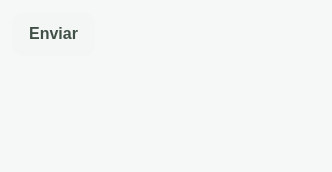
it: formularios y acciones compartidos › Action muestra fallos y vuelve a habilitar el botón
The image size is (332, 172).
What coordinates should you click on to do the following:
click the button "Enviar"
I would click on:
 (53, 34)
Its box is left=12, top=12, right=95, bottom=56.
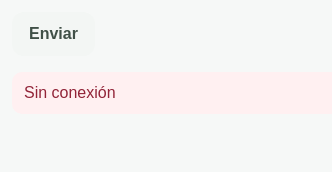
Check: the message reads "Sin conexión", box left=24, top=84, right=116, bottom=101
